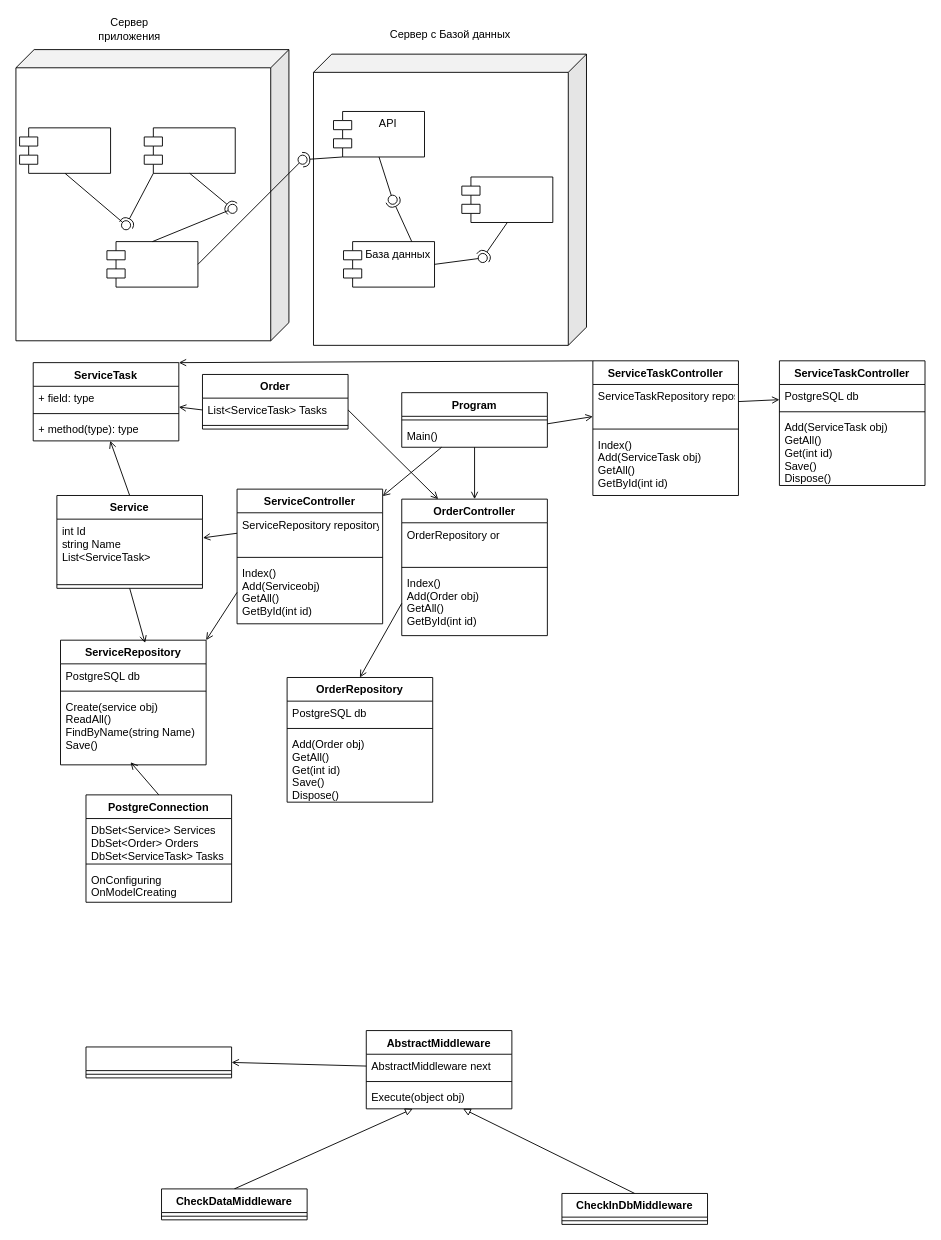
This 941x1240 diagram has some shape labels left out. The shapes that lost their labels are listed below. From the top down, each one's centre as x and y in pixels, then its label:
the point at 65,150: Цепочка обязанностей
the point at 189,150: Сервисы
the point at 507,199: Резервное копирование
the point at 152,264: Котроллеры
the point at 158,1062: Object
